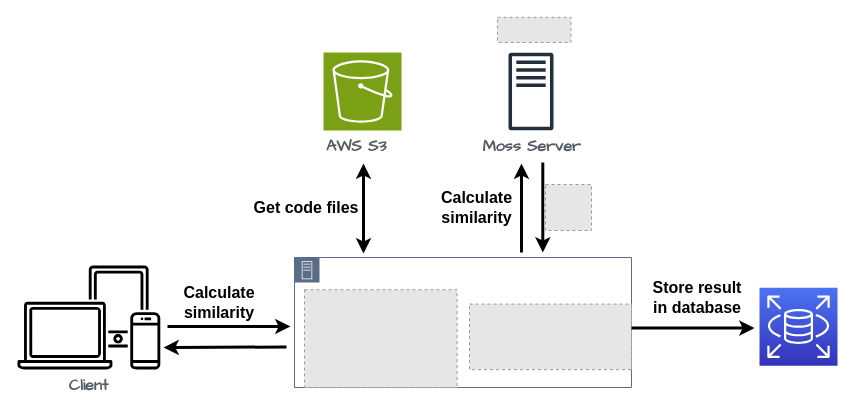
Some shapes in this 855 by 413 pixel diagram are drawn without their labels. Grey dashed boxes stand in for pictures. The box of each missing label's shape, as (x1, y1, x2, y2) in pixels:
AWS RDS: (758, 287, 838, 366)
Database Server: (294, 256, 632, 388)
